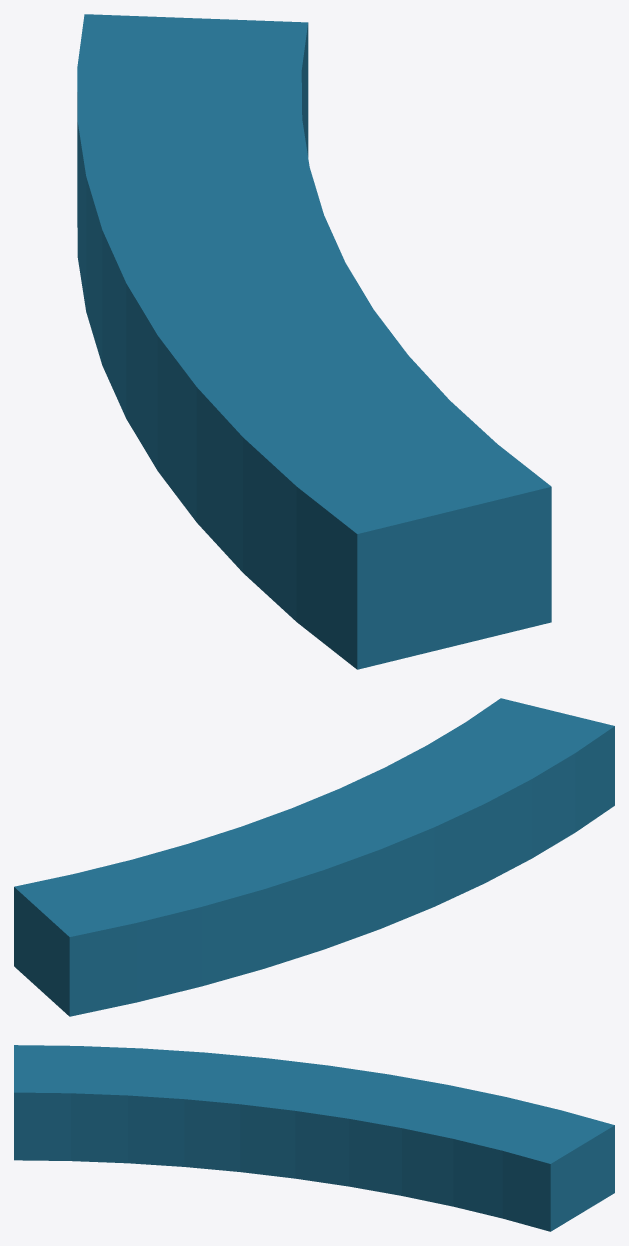
File: 28Arch35.obj
The picture shows the model from 3 angles, top to bottom: view 1: azimuth 30°, elevation 25°; view 2: azimuth 150°, elevation 25°; view 3: azimuth 270°, elevation 25°; orthographic projection. The views are drawn at different scales.
Visible parts, largest first — view 1: 28Arch35; view 2: 28Arch35; view 3: 28Arch35.
Boxes of the visible parts, x1,y1,x2,y2 form: 28Arch35: [77, 14, 551, 669]; 28Arch35: [14, 698, 614, 1016]; 28Arch35: [14, 1045, 614, 1231].
Size of the model in its own units: 0.7521 by 0.2 by 1.61.
